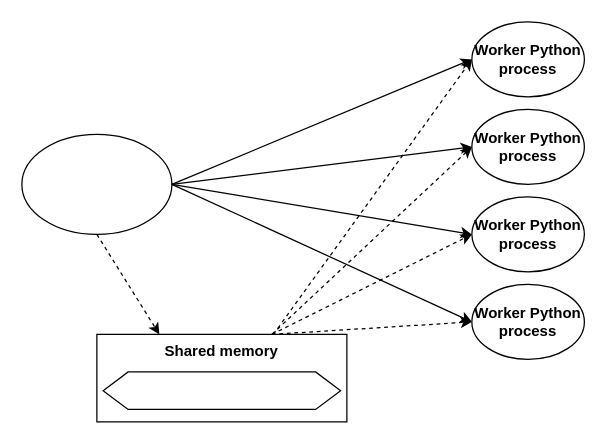
Image size: 606x444. Some labels were removed from this diagram. The centre of each missing label's shape, as x and y in pixels:
"Main Python process" belongs at pixel 96 183.
"Sentinel Hub session or token" belongs at pixel 221 390.
